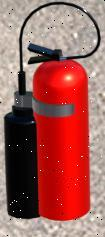Fire Extinguisher: (3, 0, 105, 226)
